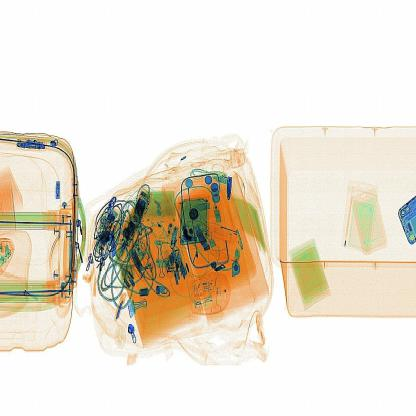pliers: (109, 291, 130, 331)
